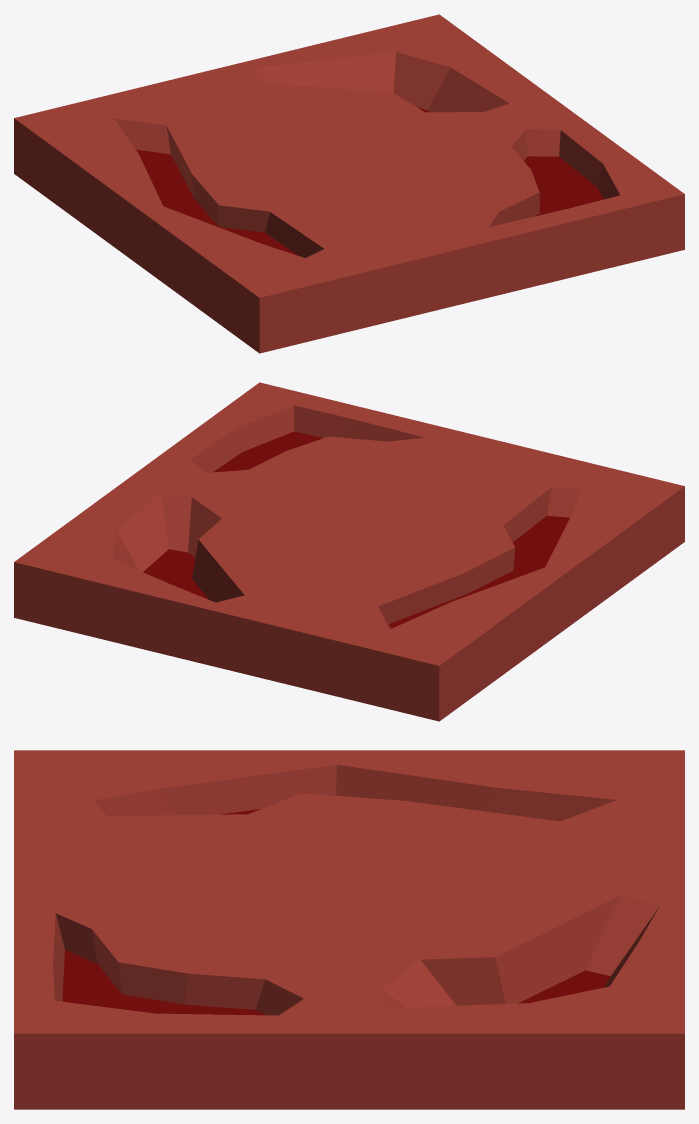
File: Field_16.fbx
3 views of the same model, one above another, from view 1: azimuth 30°, elevation 25°; view 2: azimuth 150°, elevation 25°; view 3: azimuth 270°, elevation 25° (orthographic). The views are drawn at different scales.
Parts seen in each view (by area): view 1: Plane.031; view 2: Plane.031; view 3: Plane.031.
Part boxes in pixels (x1,y1,x2,y2): Plane.031: (14,14,684,353); Plane.031: (14,382,684,721); Plane.031: (14,750,684,1109).
Size of the model in its own units: 400 by 50 by 400.
